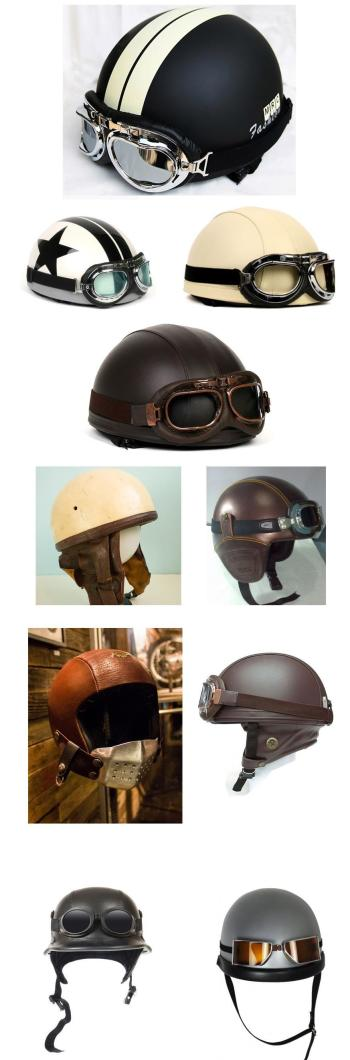with_helmet: (74, 5, 296, 194), (85, 319, 274, 452), (37, 652, 162, 785), (185, 207, 339, 310), (12, 215, 164, 312), (198, 651, 340, 753), (210, 472, 329, 578), (51, 470, 160, 585), (213, 884, 330, 986), (41, 886, 153, 964)
